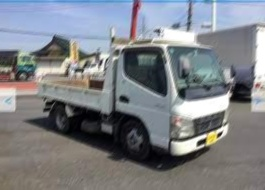truck: (42, 28, 230, 162)
